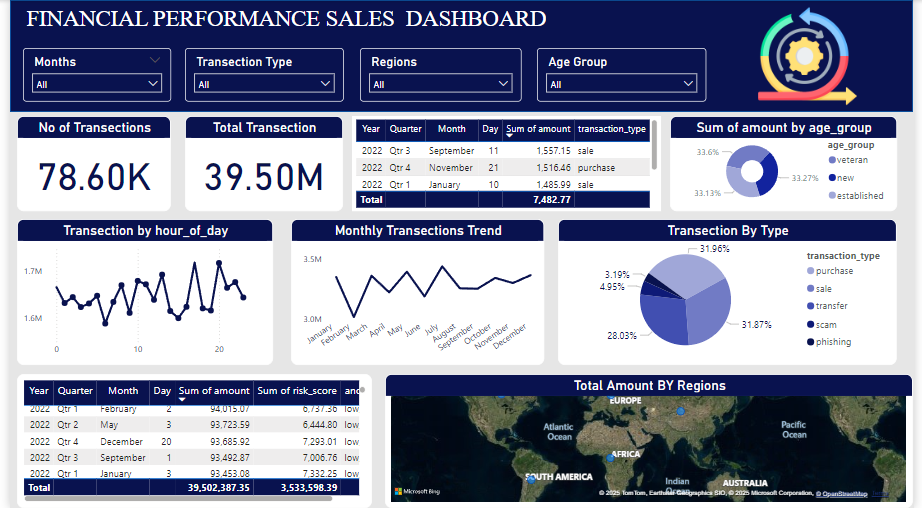

This screenshot's page, from the dashboard's own definition file:
{"tool":"powerbi","page":{"name":"Dashboard","canvas":[1280,720],"ordinal":0},"visuals":[{"type":"shape","box":[0,0,1279.8,158.7],"z":0},{"type":"card","title":"No of Transections","fields":{"Values":["CountNonNull(metaverse_transactions_dataset.amount)"]},"box":[9.9,164.4,218.3,134.6],"z":1000},{"type":"card","title":"Total Transection","fields":{"Values":["Sum(metaverse_transactions_dataset.amount)"]},"box":[248,164.4,223.9,134.6],"z":2000},{"type":"tableEx","fields":{"Values":["metaverse_transactions_dataset.timestamp.Variation.Date Hierarchy.Year","metaverse_transactions_dataset.timestamp.Variation.Date Hierarchy.Quarter","metaverse_transactions_dataset.timestamp.Variation.Date Hierarchy.Month","metaverse_transactions_dataset.timestamp.Variation.Date Hierarchy.Day","Sum(metaverse_transactions_dataset.amount)","metaverse_transactions_dataset.transaction_type"]},"box":[484.7,164.4,438,134.6],"z":3000},{"type":"lineChart","fields":{"Category":["metaverse_transactions_dataset.hour_of_day"],"Y":["Sum(metaverse_transactions_dataset.amount)"]},"box":[9.9,310.4,362.8,206.9],"z":4000},{"type":"lineChart","title":"Monthly Transections Trend","fields":{"Category":["metaverse_transactions_dataset.timestamp.Variation.Date Hierarchy.Month"],"Y":["Sum(metaverse_transactions_dataset.amount)"]},"box":[398.3,310.4,358.6,206.9],"z":5000},{"type":"slicer","fields":{"Values":["metaverse_transactions_dataset.location_region"]},"box":[495.4,67.7,229,76.3],"z":6000},{"type":"slicer","fields":{"Values":["metaverse_transactions_dataset.timestamp.Variation.Date Hierarchy.Month"]},"box":[18.7,67.7,210.2,76.3],"z":7000},{"type":"slicer","fields":{"Values":["metaverse_transactions_dataset.transaction_type"]},"box":[247.7,67.7,224.6,76.3],"z":8000},{"type":"slicer","fields":{"Values":["metaverse_transactions_dataset.age_group"]},"box":[747.4,67.7,240.5,76.3],"z":9000},{"type":"tableEx","fields":{"Values":["metaverse_transactions_dataset.timestamp.Variation.Date Hierarchy.Year","metaverse_transactions_dataset.timestamp.Variation.Date Hierarchy.Quarter","metaverse_transactions_dataset.timestamp.Variation.Date Hierarchy.Month","metaverse_transactions_dataset.timestamp.Variation.Date Hierarchy.Day","Sum(metaverse_transactions_dataset.amount)","Sum(metaverse_transactions_dataset.risk_score)","metaverse_transactions_dataset.anomaly"]},"box":[9.9,530.1,503.1,189.9],"z":10000},{"type":"textbox","box":[18.7,2.9,758.9,64.8],"z":11000},{"type":"pieChart","title":"Transection By Type","fields":{"Y":["Sum(metaverse_transactions_dataset.amount)"],"Category":["metaverse_transactions_dataset.transaction_type"]},"box":[776.7,310.4,480.5,206.9],"z":12000},{"type":"map","title":"Total Amount BY Regions","fields":{"Size":["Sum(metaverse_transactions_dataset.amount)"],"Category":["metaverse_transactions_dataset.location_region"]},"box":[531.5,530.1,748.3,189.9],"z":12001},{"type":"donutChart","fields":{"Category":["metaverse_transactions_dataset.age_group"],"Y":["Sum(metaverse_transactions_dataset.amount)"]},"box":[935.4,164.4,321.7,134.6],"z":12002},{"type":"image","box":[980.8,0,299.1,158.7],"z":12003}]}

Visuals, with their boxes in screenshot pixels (x1, y1, x2, y2), scaled from the page's 1280x720 canvas onto the 922x508 screenshot:
shape: 0/0/921/112
"No of Transections" card: 7/116/164/211
"Total Transection" card: 179/116/340/211
tableEx - metaverse_transactions_dataset.timestamp.Variation.Date Hierarchy.Year x metaverse_transactions_dataset.timestamp.Variation.Date Hierarchy.Quarter: 349/116/665/211
lineChart - metaverse_transactions_dataset.hour_of_day x Sum(metaverse_transactions_dataset.amount): 7/219/268/365
"Monthly Transections Trend" lineChart: 287/219/545/365
slicer - metaverse_transactions_dataset.location_region: 357/48/522/102
slicer - metaverse_transactions_dataset.timestamp.Variation.Date Hierarchy.Month: 13/48/165/102
slicer - metaverse_transactions_dataset.transaction_type: 178/48/340/102
slicer - metaverse_transactions_dataset.age_group: 538/48/712/102
tableEx - metaverse_transactions_dataset.timestamp.Variation.Date Hierarchy.Year x metaverse_transactions_dataset.timestamp.Variation.Date Hierarchy.Quarter: 7/374/370/507
textbox: 13/2/560/48
"Transection By Type" pieChart: 559/219/906/365
"Total Amount BY Regions" map: 383/374/921/507
donutChart - metaverse_transactions_dataset.age_group x Sum(metaverse_transactions_dataset.amount): 674/116/906/211
image: 706/0/921/112
